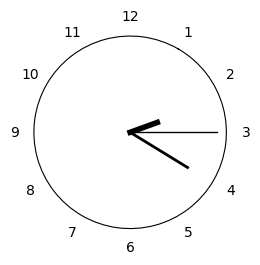12: (121, 8, 139, 23)
circle: (34, 36, 227, 229)
hours: (127, 119, 161, 136)
minutes: (133, 134, 189, 169)
seconds: (134, 131, 219, 134)
